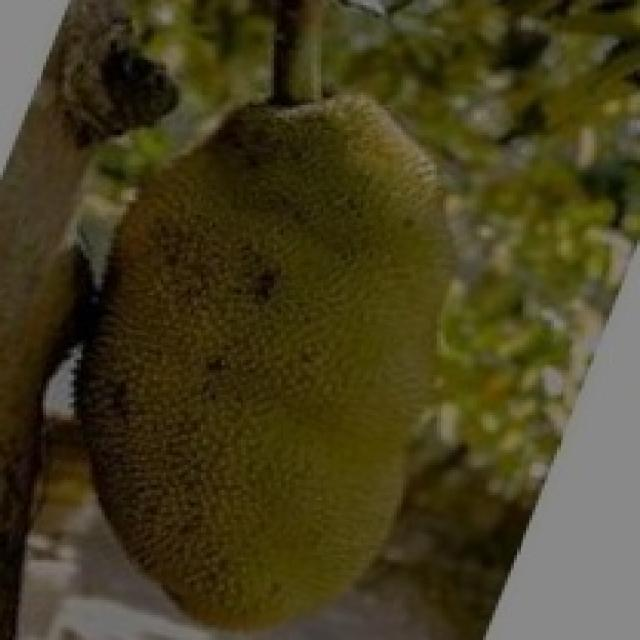Fruit: (49, 270, 458, 640)
